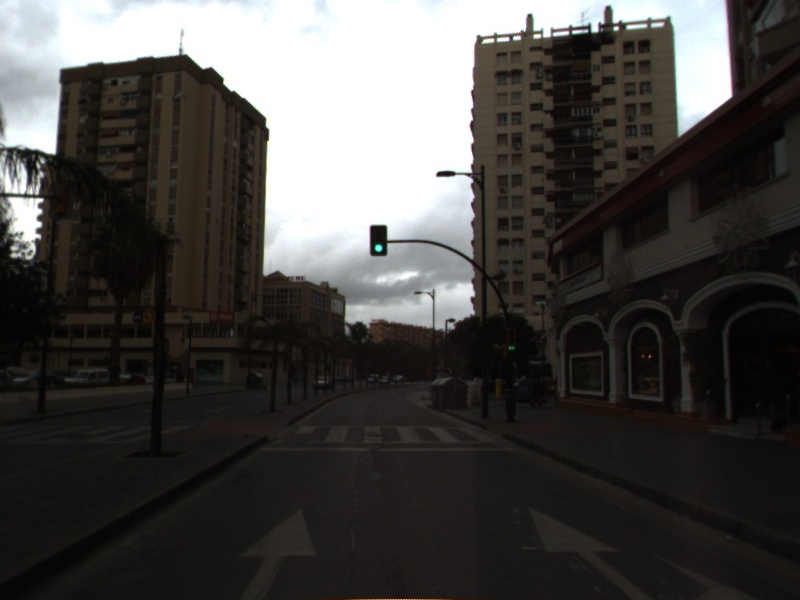STRAIGHT: (525, 502, 663, 600), (231, 503, 320, 600)
